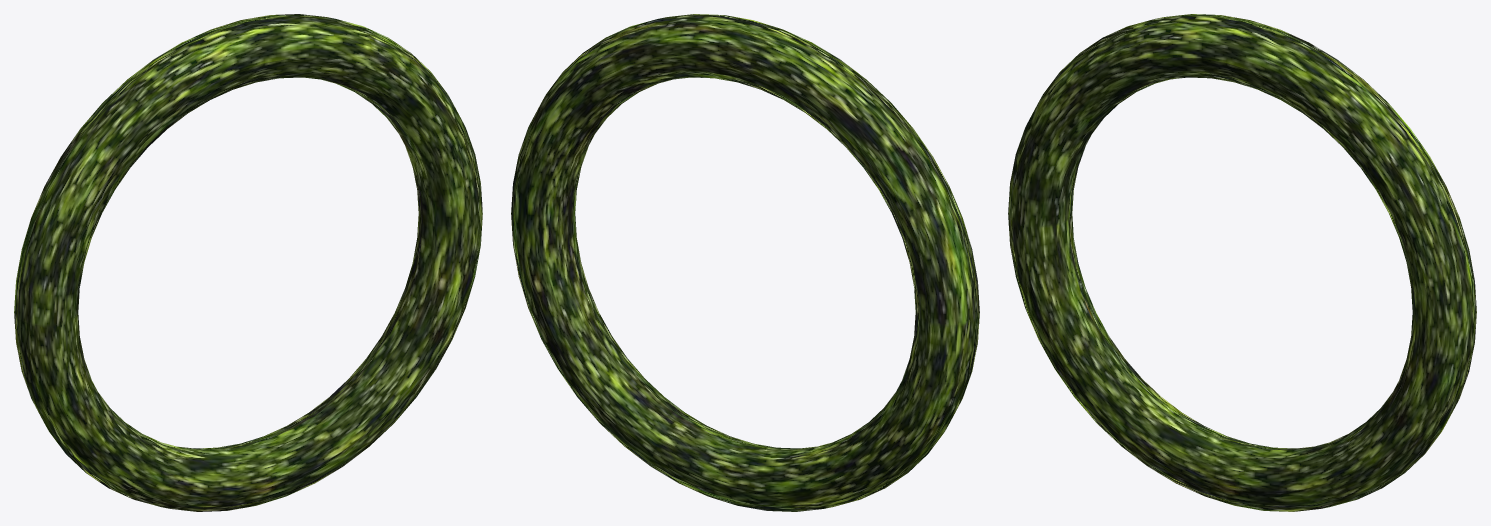
File: portal_final_lev2.glb
The picture shows the model from 3 angles, left to right: view 1: azimuth 30°, elevation 25°; view 2: azimuth 150°, elevation 25°; view 3: azimuth 330°, elevation 25°; orthographic projection.
Visible parts, largest first — view 1: portal_nivel3_lev2; view 2: portal_nivel3_lev2; view 3: portal_nivel3_lev2.
Boxes of the visible parts, <box> form: portal_nivel3_lev2: <box>14,14,482,511</box>; portal_nivel3_lev2: <box>511,14,979,511</box>; portal_nivel3_lev2: <box>1008,14,1476,511</box>.
Bounding box in the file's own units: 1.83 × 1.83 × 0.2214.
1 material, 1 textured.
